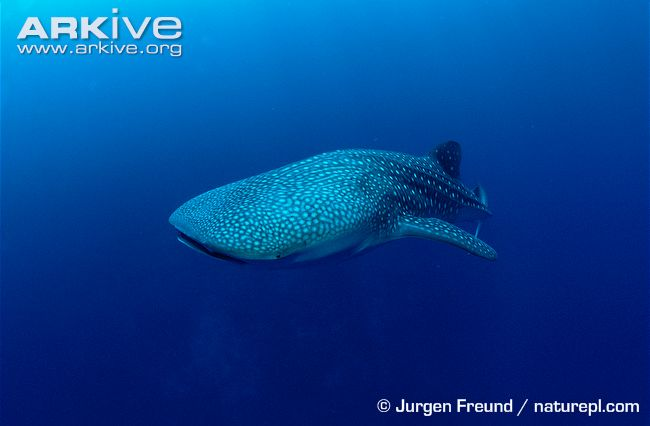shark: (149, 91, 522, 294)
